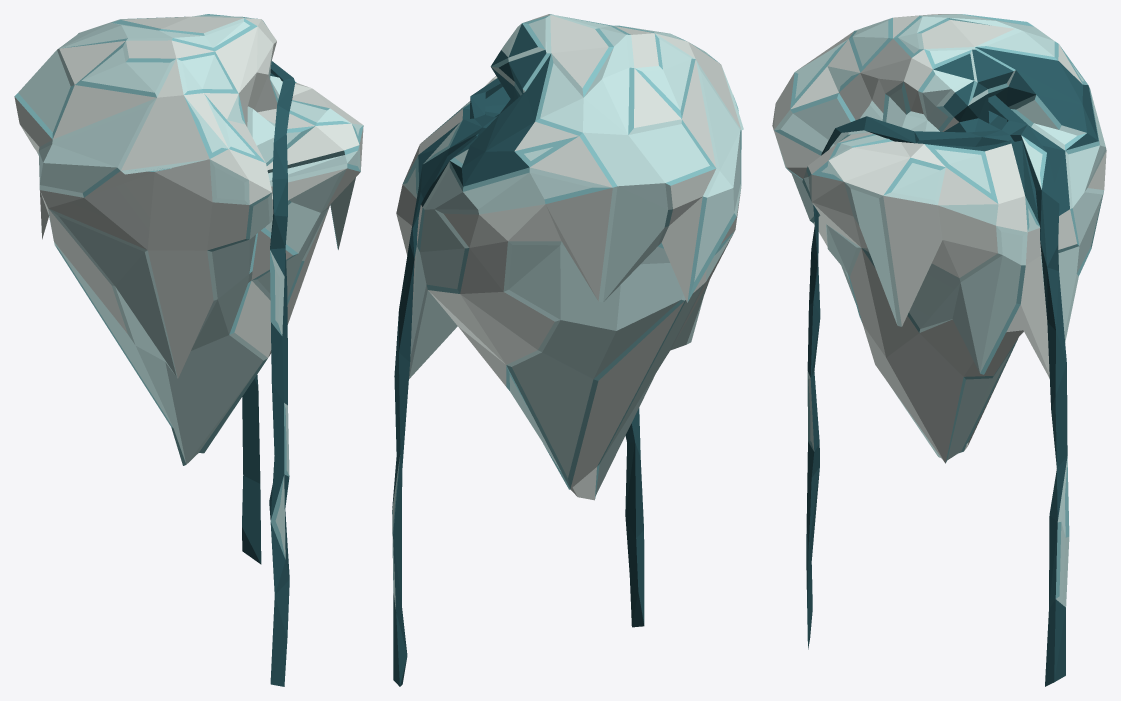
File: PIESA3.fbx
The picture shows the model from 3 angles, left to right: view 1: azimuth 30°, elevation 25°; view 2: azimuth 150°, elevation 25°; view 3: azimuth 270°, elevation 25°; orthographic projection. The views are drawn at different scales.
Parts seen in each view (by area): view 1: IslaFlotanteHielo01; view 2: IslaFlotanteHielo01; view 3: IslaFlotanteHielo01.
Part boxes in pixels (bbox=[...]): IslaFlotanteHielo01: bbox=[14, 14, 363, 686]; IslaFlotanteHielo01: bbox=[392, 14, 743, 686]; IslaFlotanteHielo01: bbox=[772, 14, 1106, 686].
Bounding box in the file's own units: 324 × 670 × 333.
